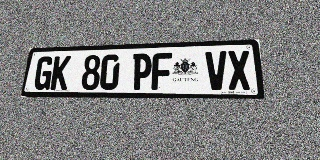0: (99, 54, 120, 90)
8: (81, 55, 102, 90)
F: (151, 53, 172, 90)
G: (33, 56, 54, 90)
K: (50, 56, 71, 90)
P: (131, 53, 152, 90)
V: (205, 51, 228, 90)
X: (227, 50, 252, 90)
